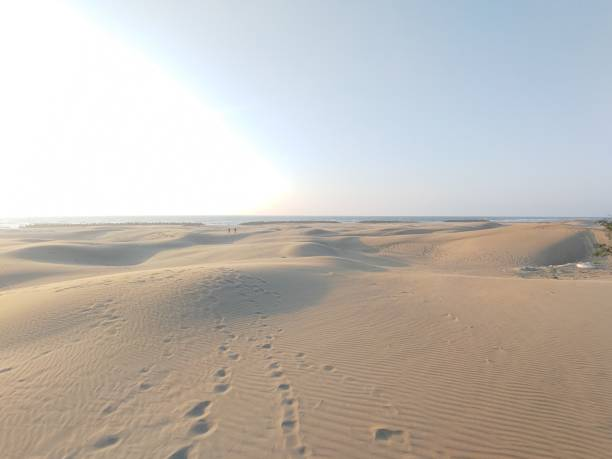human_foot_print: (293, 352, 411, 453), (169, 337, 238, 458), (254, 315, 306, 456), (266, 359, 305, 456), (168, 400, 216, 458), (276, 375, 306, 456), (212, 341, 239, 393), (370, 425, 413, 456), (184, 400, 215, 436), (250, 315, 276, 357), (215, 322, 239, 360), (185, 400, 210, 417), (373, 427, 403, 441), (93, 434, 120, 448), (190, 418, 213, 434), (167, 445, 192, 458), (295, 352, 313, 369), (213, 383, 229, 393), (214, 367, 227, 377), (227, 351, 239, 360), (322, 364, 334, 372), (258, 342, 271, 349), (270, 370, 283, 377), (218, 343, 228, 351), (268, 361, 279, 368)
